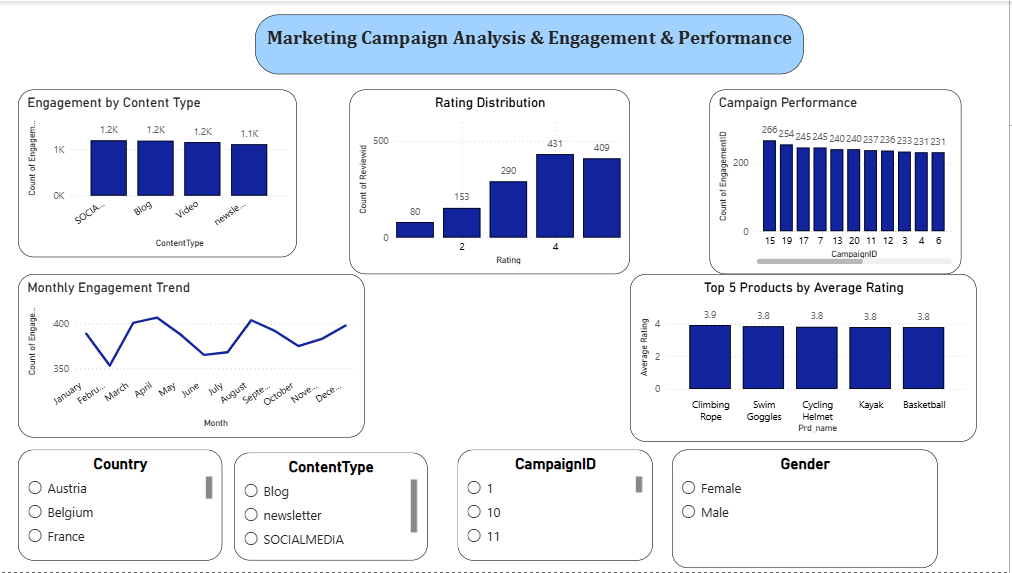

The page's visual inventory and layout, read from the dashboard file:
{"tool":"powerbi","page":{"name":"Eng.& Performance","canvas":[1280,720],"ordinal":1},"visuals":[{"type":"columnChart","title":"Engagement by Content Type","fields":{"Category":["Engagement_data csv.ContentType"],"Y":["CountNonNull(Engagement_data csv.EngagementID)"]},"box":[30.2,111.5,351.5,211.7],"z":0},{"type":"clusteredColumnChart","title":"Campaign Performance","fields":{"Category":["Engagement_data csv.CampaignID"],"Y":["Count(Engagement_data csv.EngagementID)"]},"box":[901.4,111.5,317.5,232.4],"z":1},{"type":"lineChart","title":"Monthly Engagement Trend","fields":{"Y":["CountNonNull(Engagement_data csv.EngagementID)"],"Category":["Engagement_data csv.Eng_date.Variation.Date Hierarchy.Month"]},"box":[30.2,343.9,436.5,206],"z":2},{"type":"clusteredColumnChart","title":" Rating Distribution","fields":{"Y":["CountNonNull(Cust_review csv.Reviewid)"],"Category":["Cust_review csv.Rating"]},"box":[447.9,111.5,353.4,232.4],"z":3},{"type":"clusteredColumnChart","title":"Top 5 Products by Average Rating","fields":{"Category":["Products csv.Prd_name"],"Y":["Cust_review csv.Average Rating"]},"box":[801.3,343.9,436.5,211.7],"z":4},{"type":"listSlicer","fields":{"Values":["Customers csv.Gender"]},"box":[854.2,565,334.5,149.3],"z":5},{"type":"listSlicer","fields":{"Values":["countries csv.Country"]},"box":[30.2,565,257,139.8],"z":6},{"type":"listSlicer","fields":{"Values":["Engagement_data csv.ContentType"]},"box":[302.4,568.8,243.8,136.1],"z":8},{"type":"listSlicer","fields":{"Values":["Engagement_data csv.CampaignID"]},"box":[583.9,565,245.7,139.8],"z":9},{"type":"textbox","box":[328.8,17,691.7,75.6],"z":11}]}

Visuals, with their boxes in screenshot pixels (x1, y1, x2, y2), scaled from the page's 1280x720 canvas onto the 1012x573 screenshot:
"Engagement by Content Type" columnChart: 24/89/302/257
"Campaign Performance" clusteredColumnChart: 713/89/964/274
"Monthly Engagement Trend" lineChart: 24/274/369/438
" Rating Distribution" clusteredColumnChart: 354/89/634/274
"Top 5 Products by Average Rating" clusteredColumnChart: 634/274/979/442
listSlicer - Customers csv.Gender: 675/450/940/568
listSlicer - countries csv.Country: 24/450/227/561
listSlicer - Engagement_data csv.ContentType: 239/453/432/561
listSlicer - Engagement_data csv.CampaignID: 462/450/656/561
textbox: 260/14/807/74
